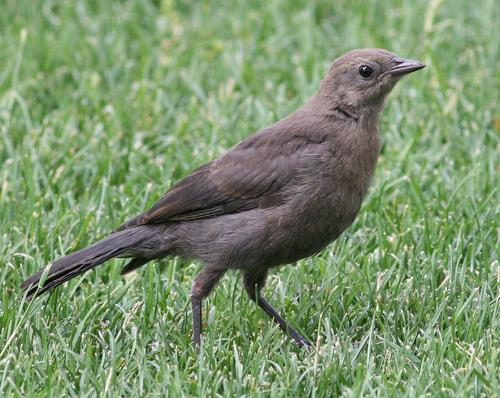009.Brewer_Blackbird: (21, 48, 428, 352)
